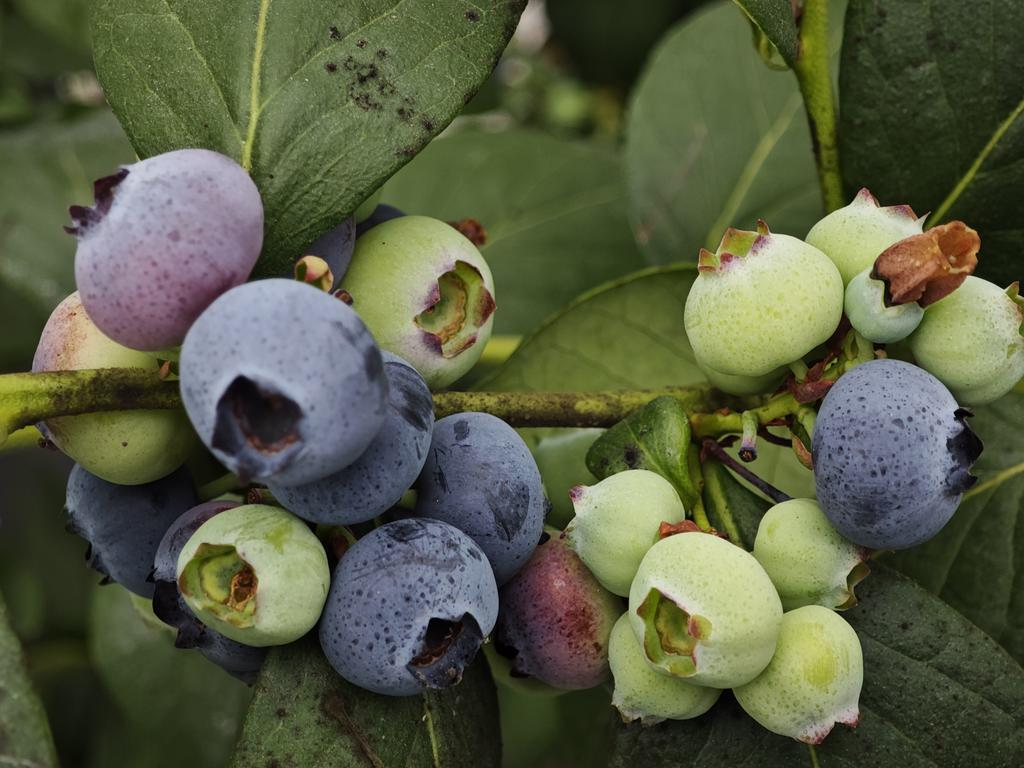RipeBlueBerry: (188, 273, 386, 484), (331, 519, 496, 692), (817, 359, 974, 536)
UnripeBlueBerry: (684, 220, 847, 373), (632, 531, 784, 689), (180, 507, 321, 649)
